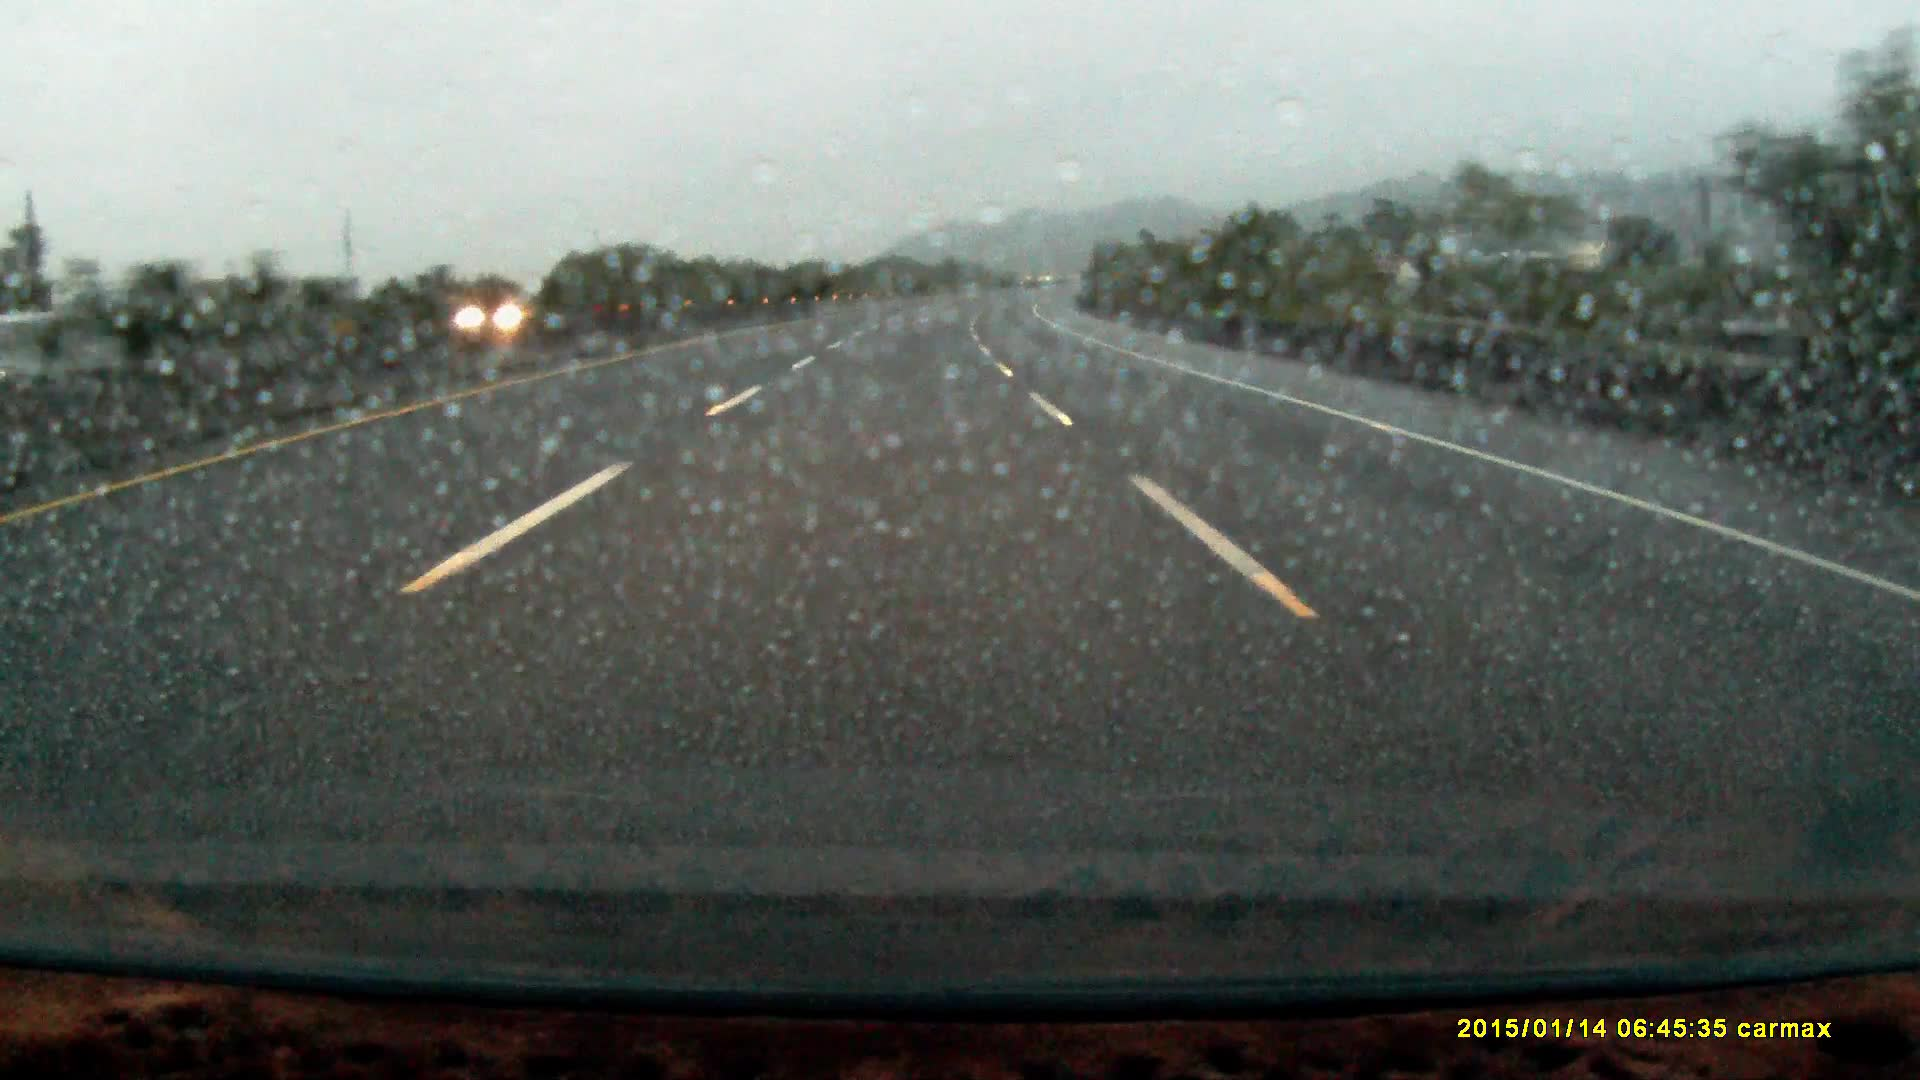vehicle: (454, 295, 542, 331)
